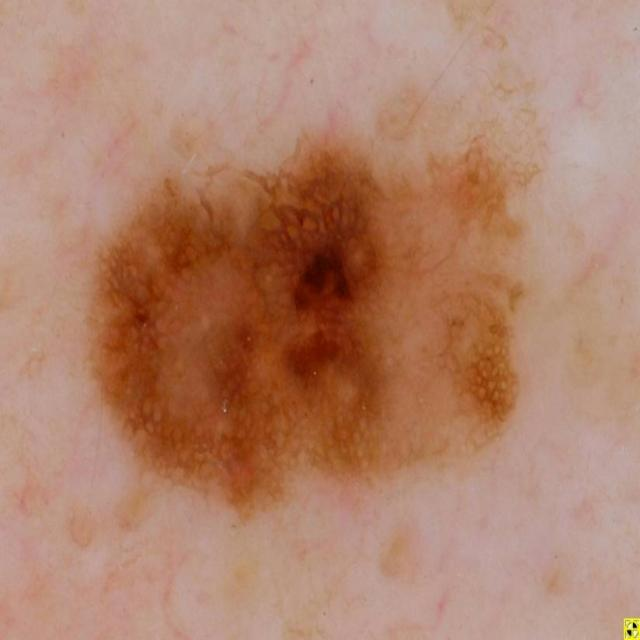Benign: (74, 107, 549, 519)
